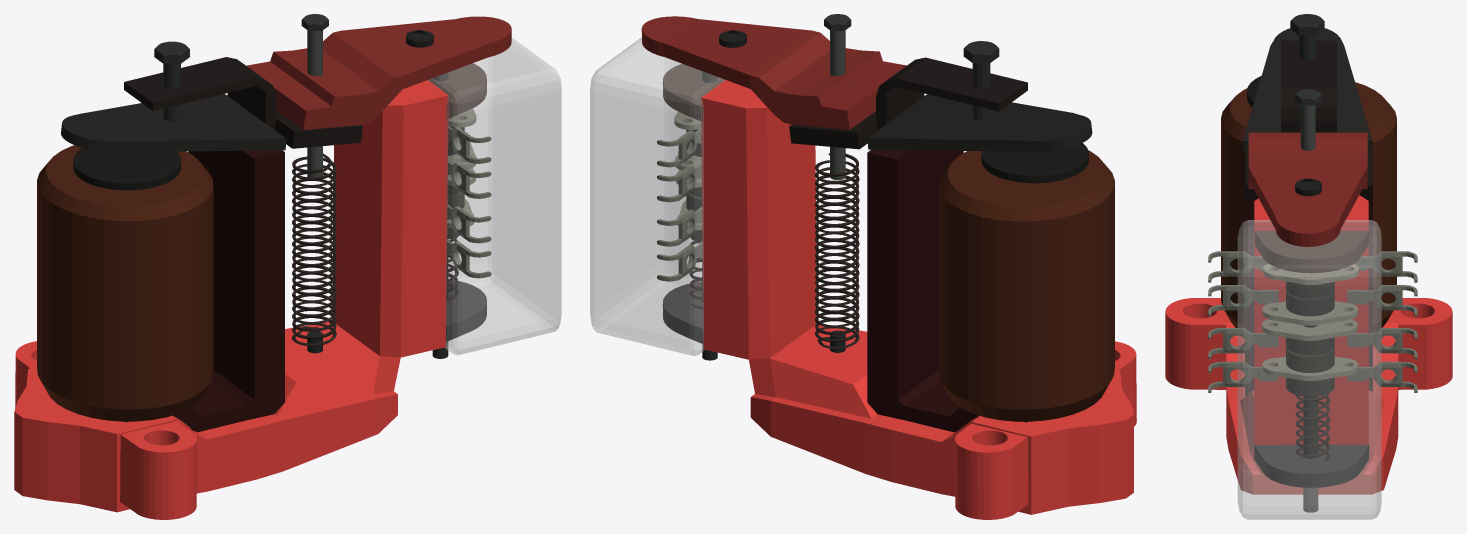
The model's file is rele.gltf.
3 renders of one model, left to right at view 1: azimuth 30°, elevation 25°; view 2: azimuth 150°, elevation 25°; view 3: azimuth 270°, elevation 25°, orthographic. The views are drawn at different scales.
Visible parts, largest first — view 1: Cylinder, Spiral.002; view 2: Cylinder, Spiral.002; view 3: Cylinder, Spiral.002.
Part boxes in pixels (<box>): Cylinder: <box>14,14,561,519</box>; Spiral.002: <box>292,153,458,346</box>; Cylinder: <box>590,14,1136,519</box>; Spiral.002: <box>689,153,859,349</box>; Cylinder: <box>1165,14,1452,519</box>; Spiral.002: <box>1295,393,1329,460</box>.
Bounding box in the file's own units: 74.59 × 57.67 × 37.83.
